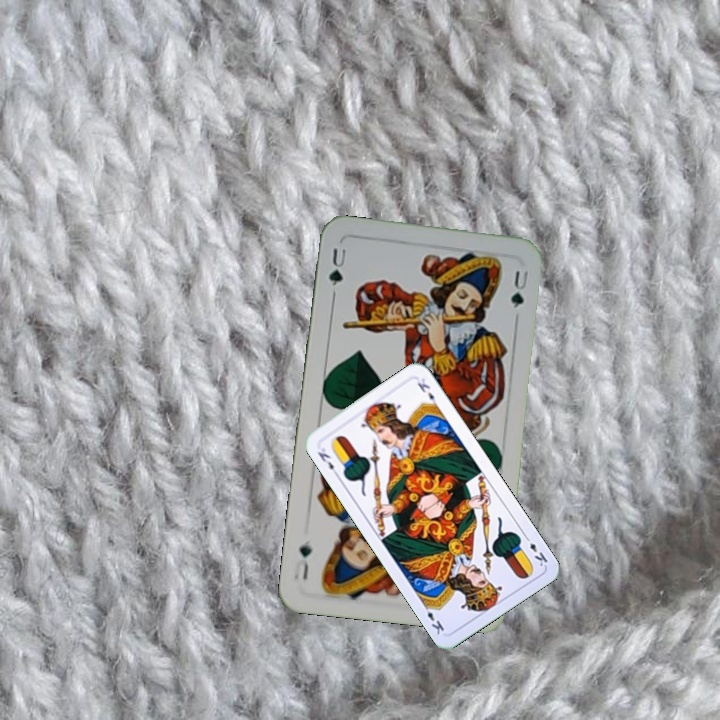EK: (520, 531, 550, 569), (313, 444, 341, 479)
GU: (325, 244, 349, 289)
